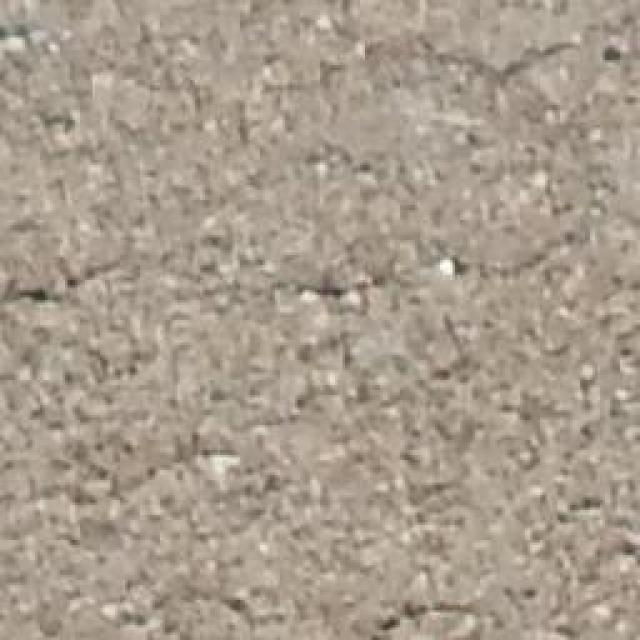concrete-crack: (221, 226, 599, 293), (19, 251, 219, 296)
